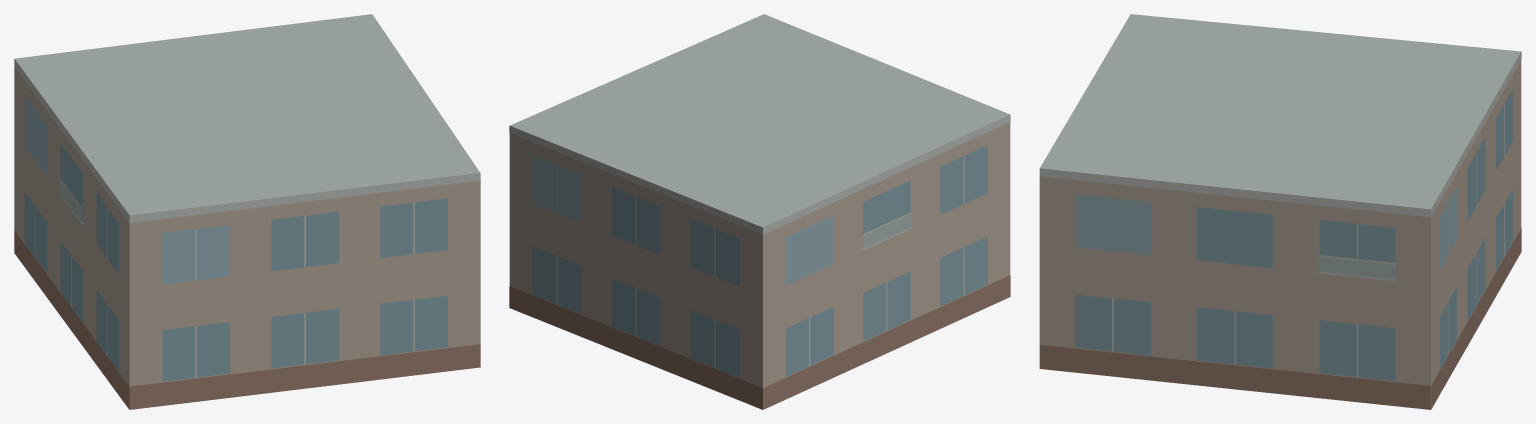
File: survey-upis-32817317.glb
The picture shows the model from 3 angles, left to right: view 1: azimuth 30°, elevation 25°; view 2: azimuth 150°, elevation 25°; view 3: azimuth 270°, elevation 25°; orthographic projection. The views are drawn at different scales.
Parts seen in each view (by area): view 1: survey-upis-32817317.tmp; view 2: survey-upis-32817317.tmp; view 3: survey-upis-32817317.tmp.
Part boxes in pixels (box(x1,y1,x2,y2)): survey-upis-32817317.tmp: box(14, 14, 480, 409); survey-upis-32817317.tmp: box(509, 14, 1010, 409); survey-upis-32817317.tmp: box(1039, 14, 1521, 409).
Bounding box in the file's own units: 12.76 × 6.1 × 13.3.
